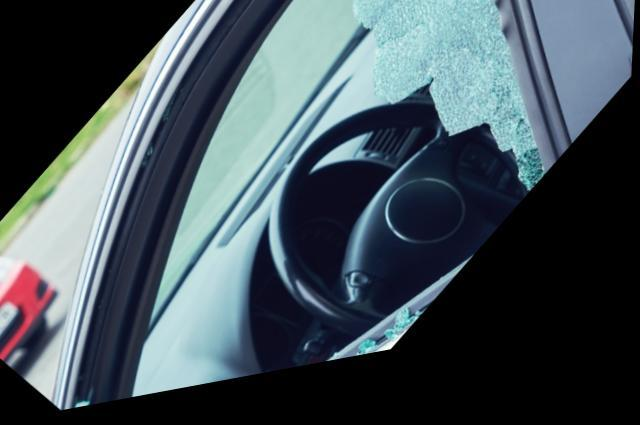glass shatter: (77, 0, 547, 412)
